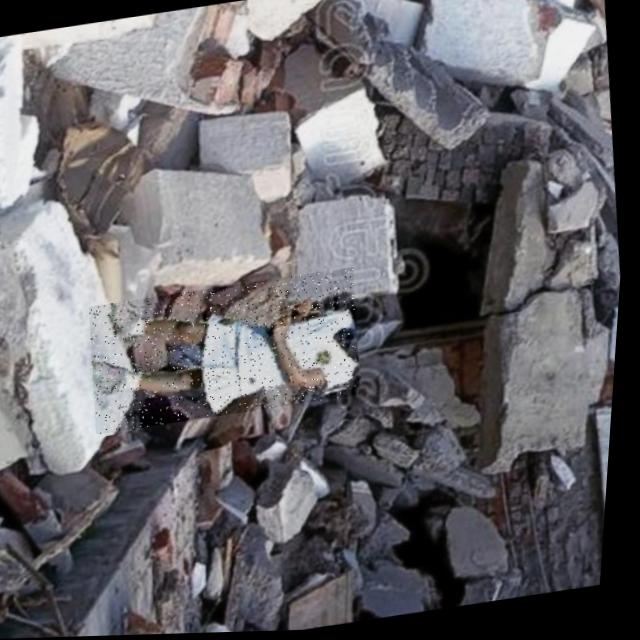Person in Rubble: (85, 269, 371, 435)
